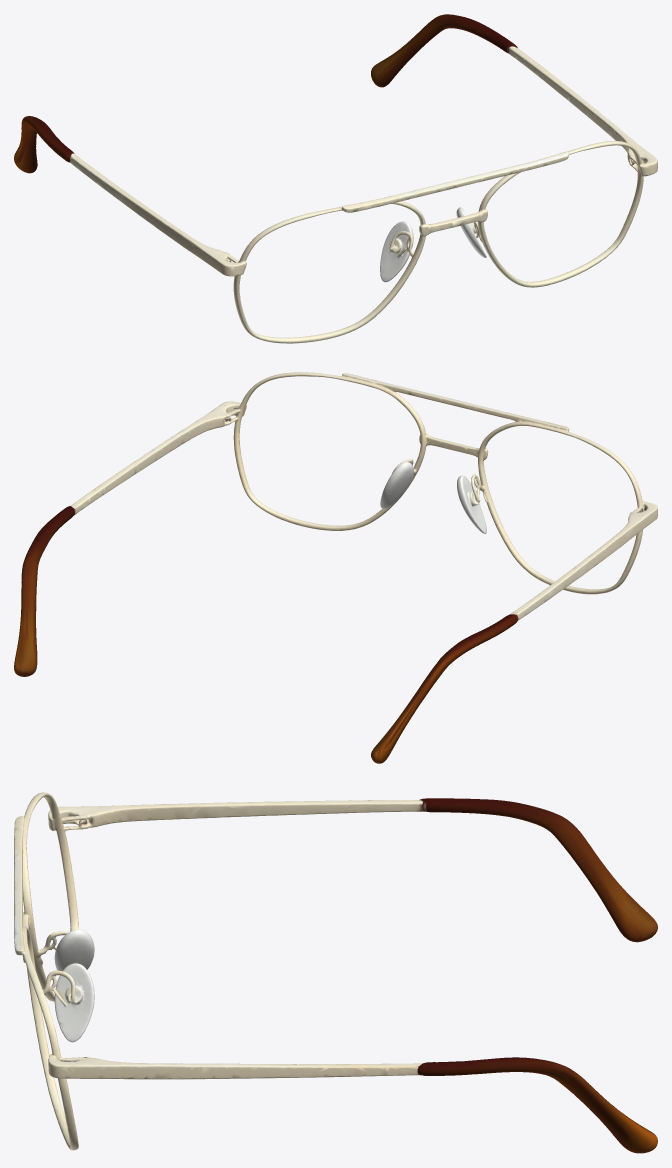
File: James.glb
3 views of the same model, one above another, from view 1: azimuth 30°, elevation 25°; view 2: azimuth 150°, elevation 25°; view 3: azimuth 270°, elevation 25° (orthographic). The views are drawn at different scales.
Size of the model in its own units: 1.88 by 0.5769 by 1.9.
Materials: 1 (1 with a texture image).
